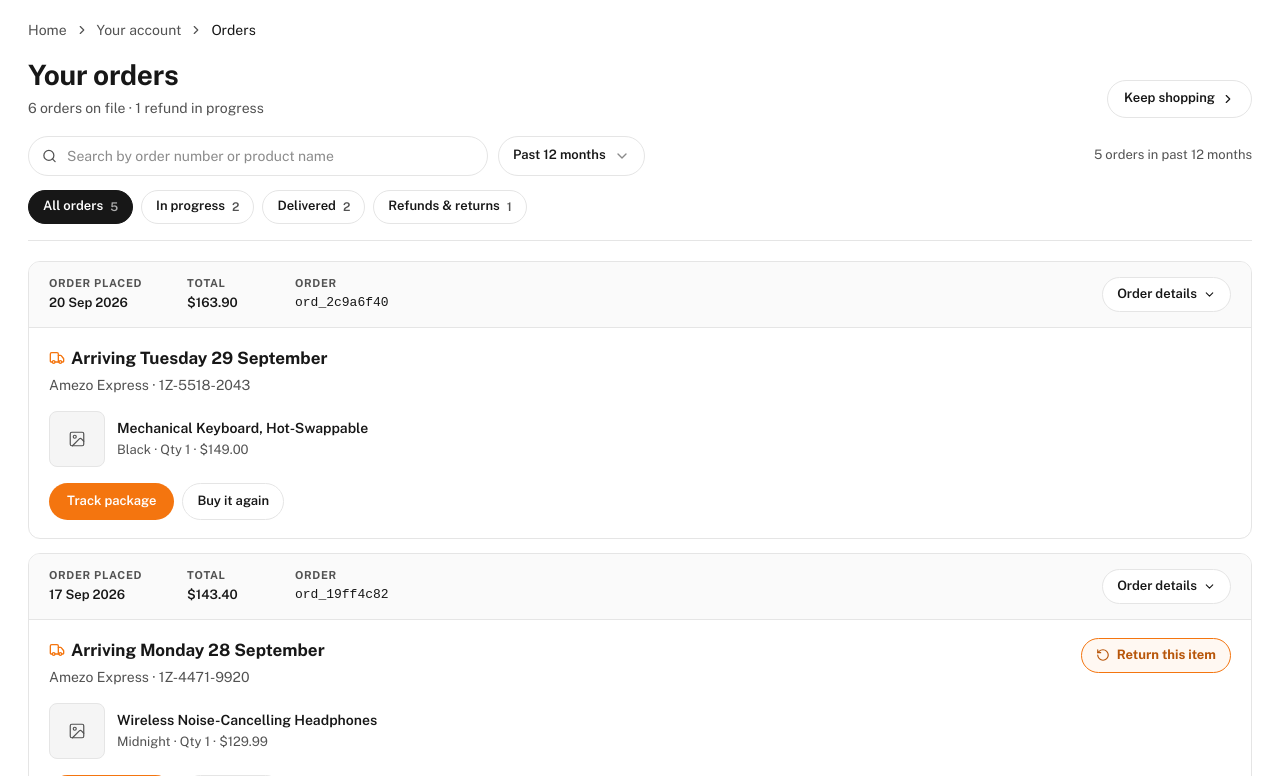
Test: drawer state in the URL › buyer My Orders › expands the card from its header, not only from the details button
// The "Order placed" label in the card's header bar - not a button.
What coordinates should you click on to do the following:
click the 1st text "Order placed"
I would click on:
 (96, 283)
Its box is [49,277,142,289].
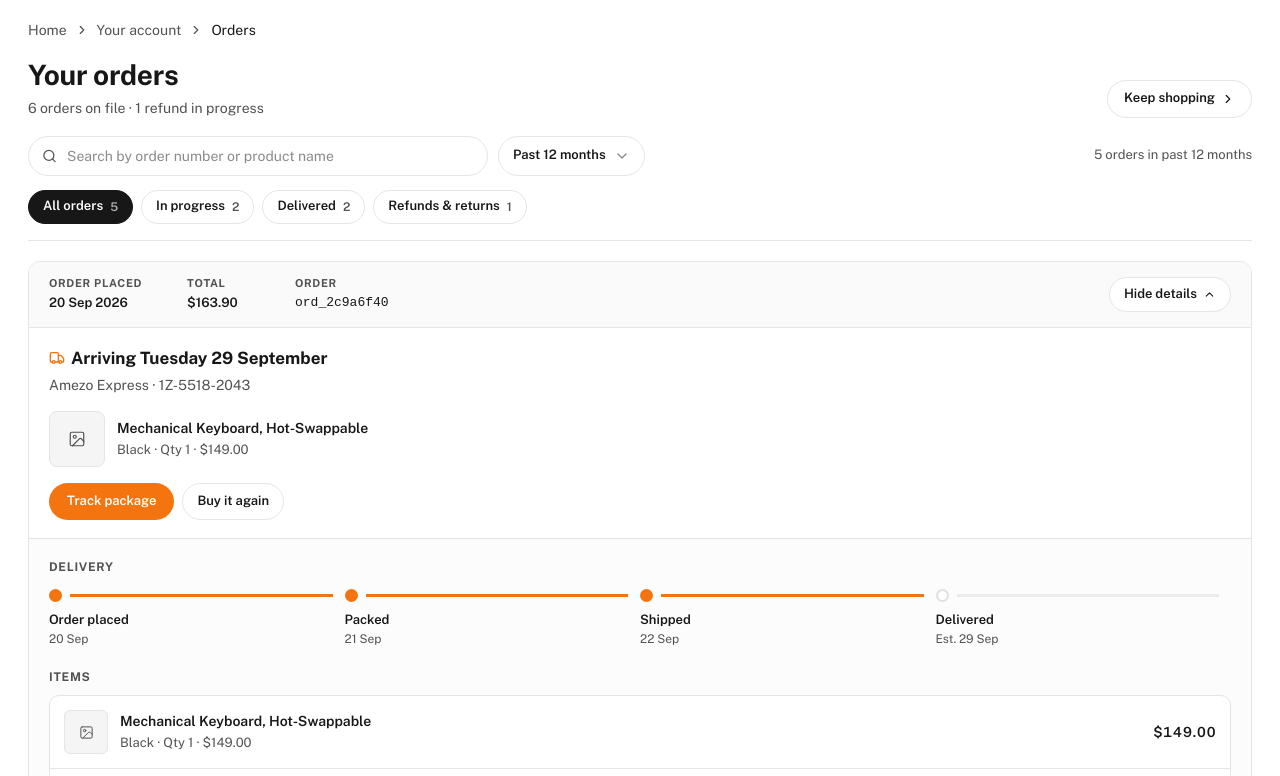
Expected: the button "Hide details" is shown, [1109,277,1231,312]
